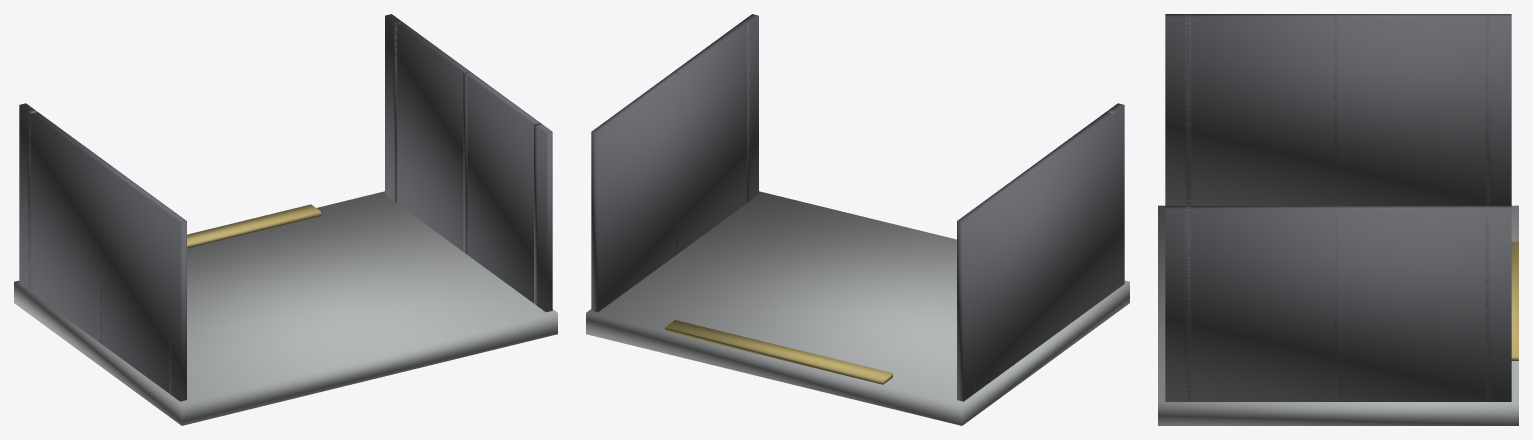
The model's file is floor_w220_d170_sides.glb.
3 views of the same model, side by side, from view 1: azimuth 30°, elevation 25°; view 2: azimuth 150°, elevation 25°; view 3: azimuth 270°, elevation 25° (orthographic). The views are drawn at different scales.
Visible parts, largest first — view 1: world; view 2: world; view 3: world.
Part boxes in pixels (box(x1,y1,x2,y2)): world: box(14, 14, 557, 425); world: box(586, 14, 1129, 425); world: box(1158, 14, 1518, 425).
Bounding box in the file's own units: 2.2 × 1.12 × 1.7.
